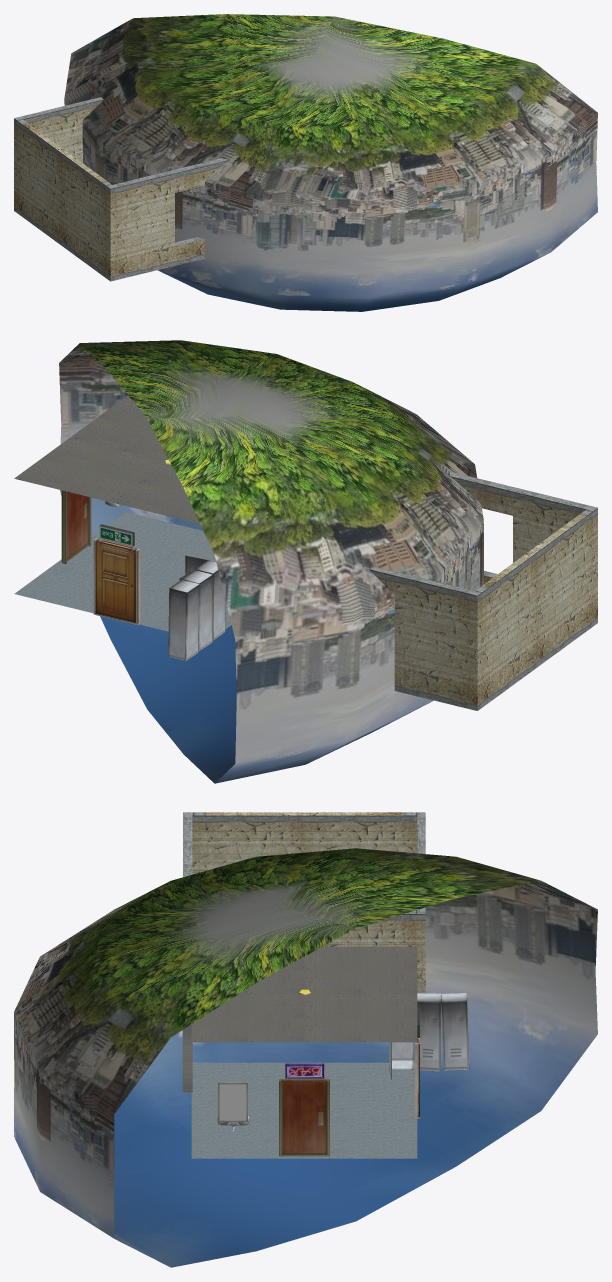
File: Hotel.glb
The picture shows the model from 3 angles, top to bottom: view 1: azimuth 30°, elevation 25°; view 2: azimuth 150°, elevation 25°; view 3: azimuth 270°, elevation 25°; orthographic projection. The views are drawn at different scales.
Parts seen in each view (by area): view 1: Hotel; view 2: Hotel; view 3: Hotel.
Part boxes in pixels (x1=…): Hotel: x1=14, y1=14, x2=597, y2=311; Hotel: x1=14, y1=340, x2=597, y2=783; Hotel: x1=14, y1=812, x2=597, y2=1267.
Bounding box in the file's own units: 154 × 74.62 × 135.
16 materials, 15 textured.
